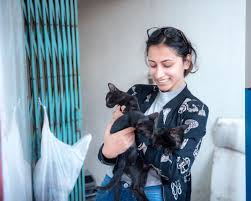indian_female: (130, 27, 198, 101)
